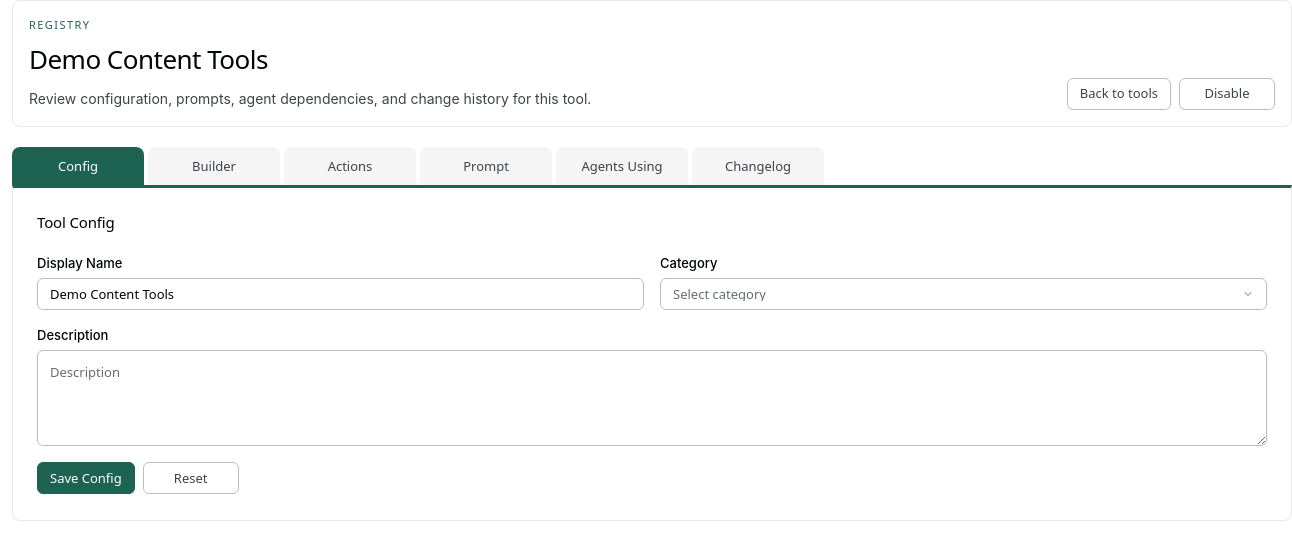
Test case: RegistryToolsDetailPage › renders parameter chips without an inverted fill
The image size is (1292, 538).
Expected: the heading "Demo Content Tools" is shown, left=29, top=41, right=268, bottom=77
Click the tab "Actions" at (350, 166), box left=284, top=147, right=416, bottom=185
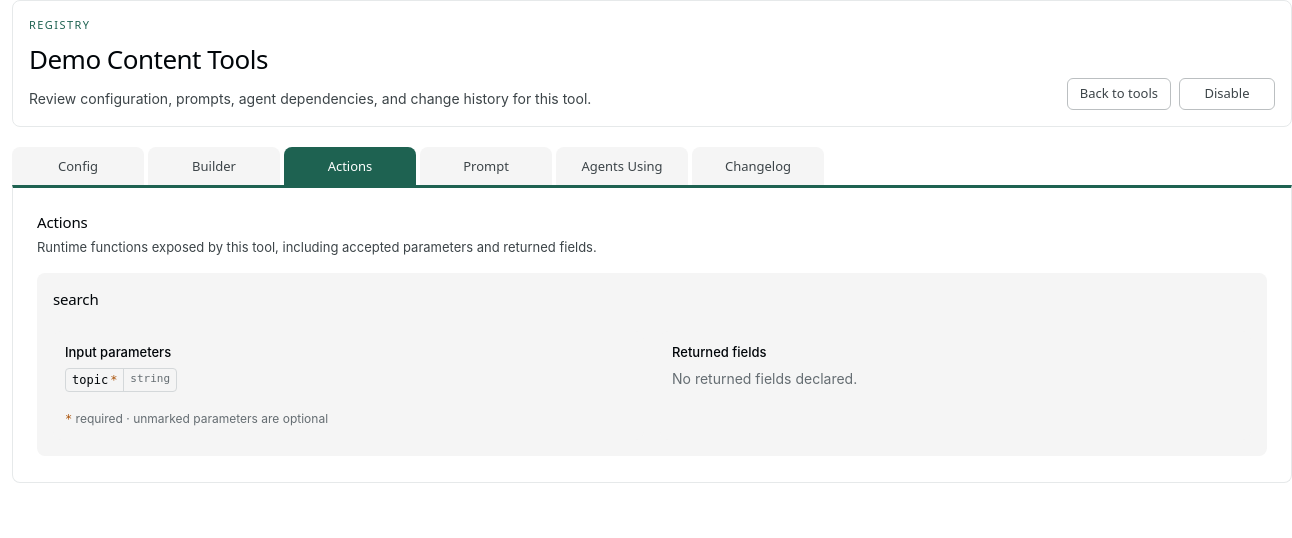
Now the text "topic" is shown, box left=72, top=371, right=108, bottom=389
Now the text "* required · unmarked parameters are optional" is shown once, box left=65, top=411, right=328, bottom=426
